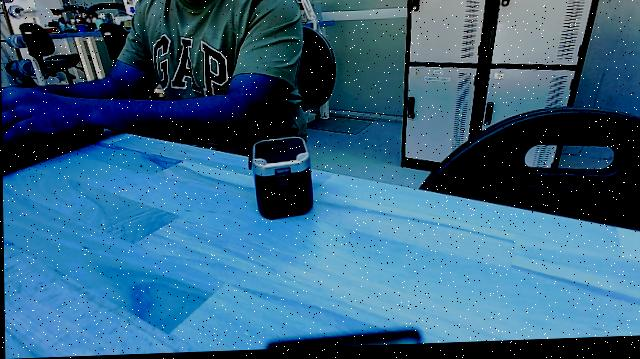adapter: (243, 131, 320, 232)
